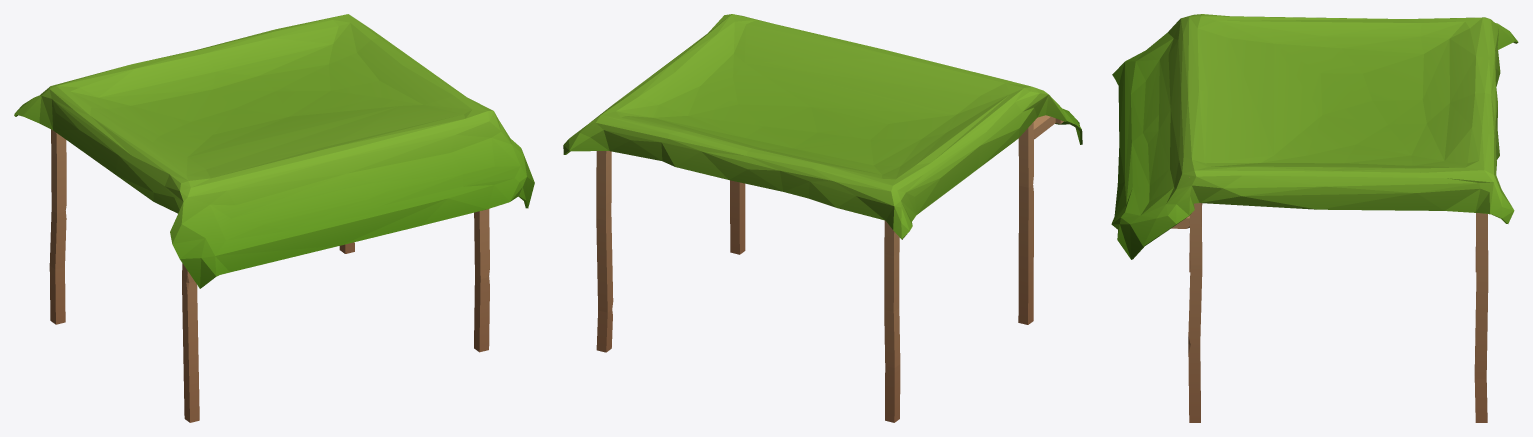
File: SM_MarketStall_03.fbx
The picture shows the model from 3 angles, left to right: view 1: azimuth 30°, elevation 25°; view 2: azimuth 150°, elevation 25°; view 3: azimuth 270°, elevation 25°; orthographic projection. The views are drawn at different scales.
Parts seen in each view (by area): view 1: SM_MarketStall_03; view 2: SM_MarketStall_03; view 3: SM_MarketStall_03.
Boxes of the visible parts, box(x1,y1,x2,y2) form: SM_MarketStall_03: box(14, 14, 534, 422); SM_MarketStall_03: box(563, 14, 1082, 422); SM_MarketStall_03: box(1111, 14, 1518, 422).
Bounding box in the file's own units: 406 × 258 × 377.
